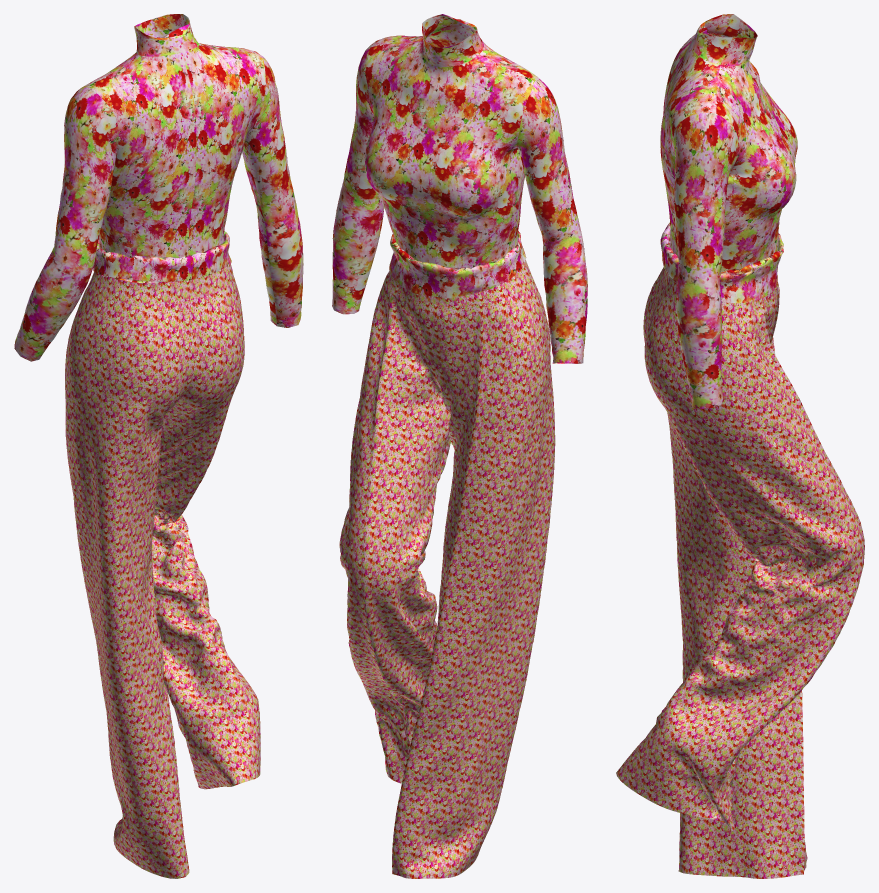
Rendered from DA_HighNeck+WidePants_0000217.obj.
3 views of the same model, side by side, from view 1: azimuth 30°, elevation 25°; view 2: azimuth 150°, elevation 25°; view 3: azimuth 270°, elevation 25° (orthographic).
Bounding box in the file's own units: 0.5455 × 1.65 × 0.4371.
